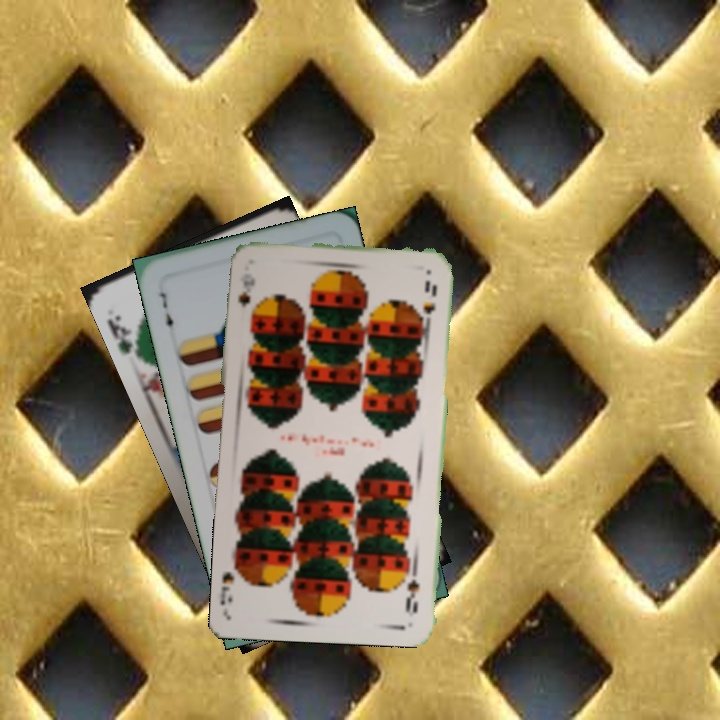E7: (155, 288, 176, 337)
GK: (103, 311, 141, 357)
S9: (403, 561, 422, 616), (234, 269, 257, 310)
